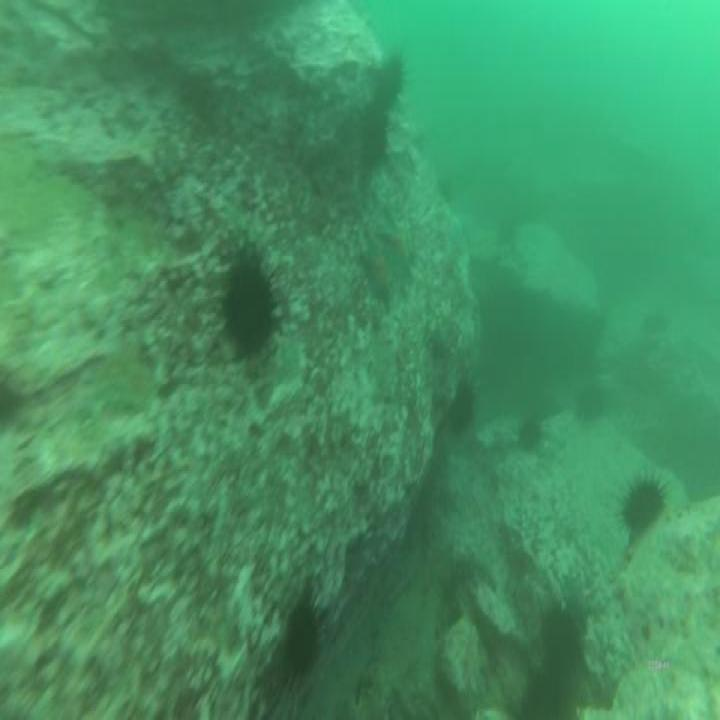echinus: (224, 258, 273, 354), (522, 666, 575, 720), (540, 604, 581, 670), (287, 606, 320, 674), (623, 482, 662, 530), (376, 54, 406, 100), (360, 110, 385, 162), (450, 384, 470, 434), (576, 384, 601, 423), (516, 414, 538, 444)
starfish: (356, 244, 389, 304), (379, 217, 414, 272)
